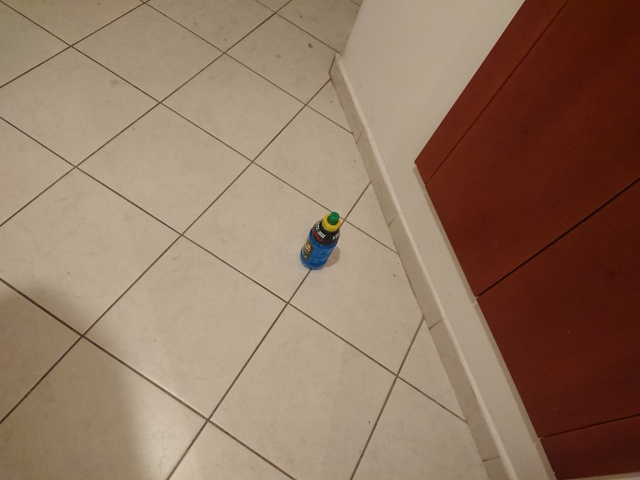Vindi Iso Sport Forest Strawberries 500mL: (299, 210, 343, 272)
